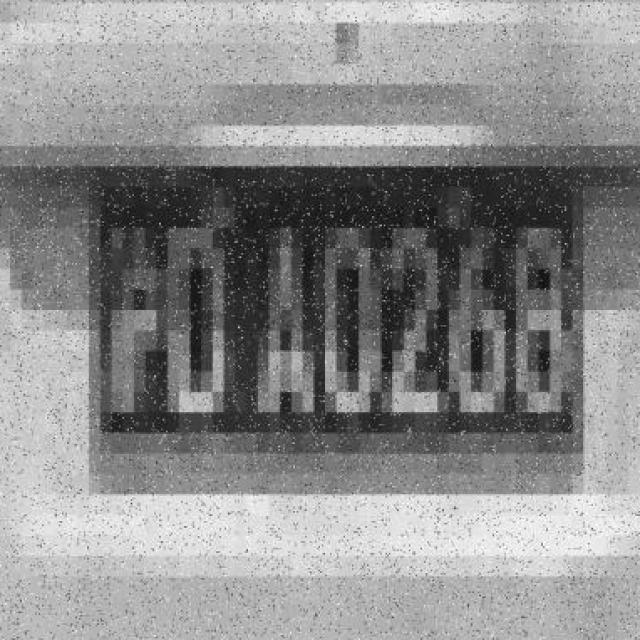licenseplate: (93, 175, 577, 472)
